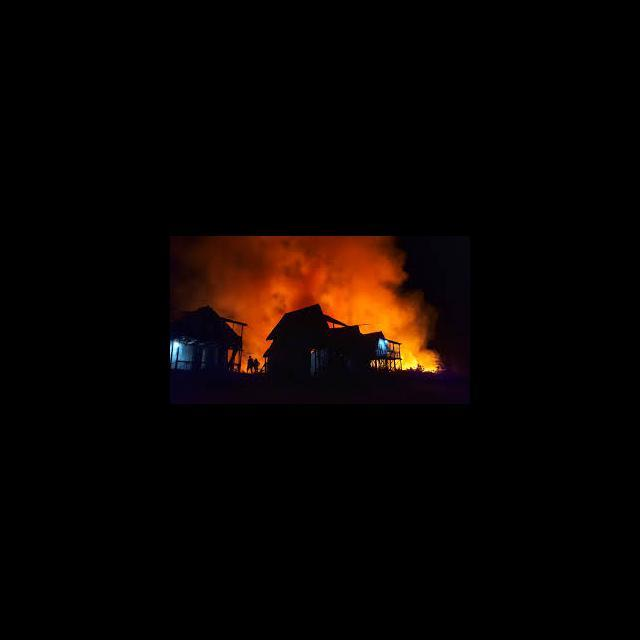Fire: (398, 352, 442, 374)
Smoke: (173, 244, 438, 302), (333, 302, 432, 324), (406, 326, 430, 346)
